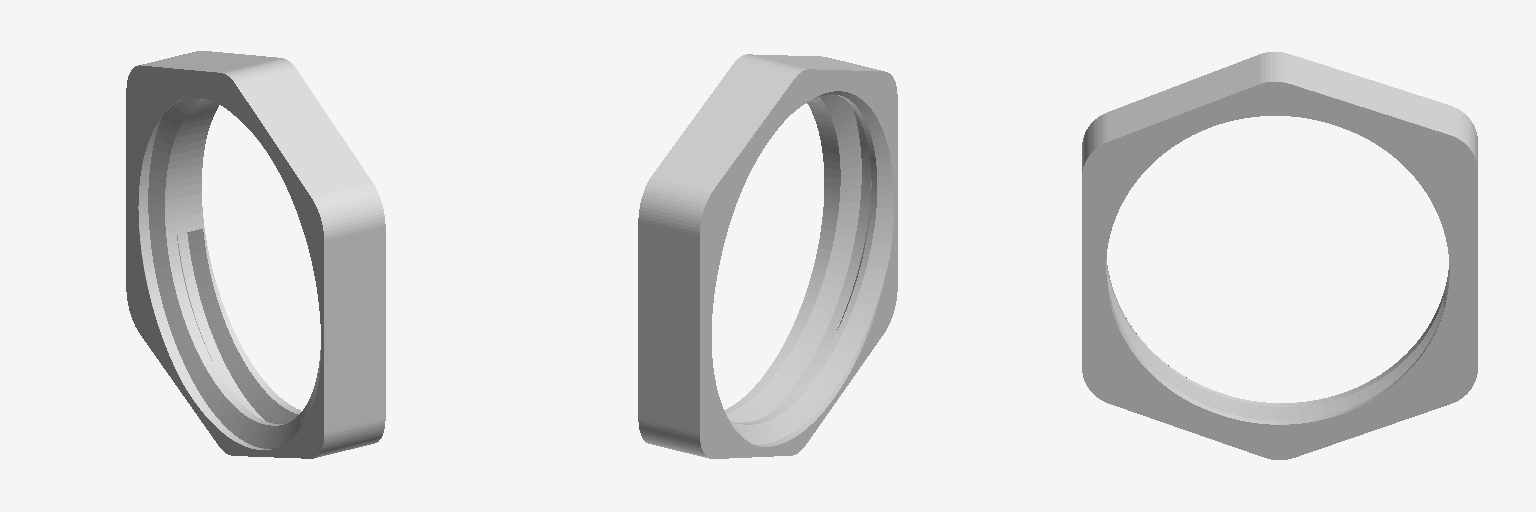
The model's file is nut3.obj.
3 renders of one model, left to right at view 1: azimuth 30°, elevation 25°; view 2: azimuth 150°, elevation 25°; view 3: azimuth 270°, elevation 25°, orthographic.
Parts seen in each view (by area): view 1: nut3; view 2: nut3; view 3: nut3.
Part boxes in pixels (x1,y1,x2,y2): nut3: (126,51,385,458); nut3: (638,54,897,458); nut3: (1082,52,1477,459).
Bounding box in the file's own units: 5 × 29.56 × 28.